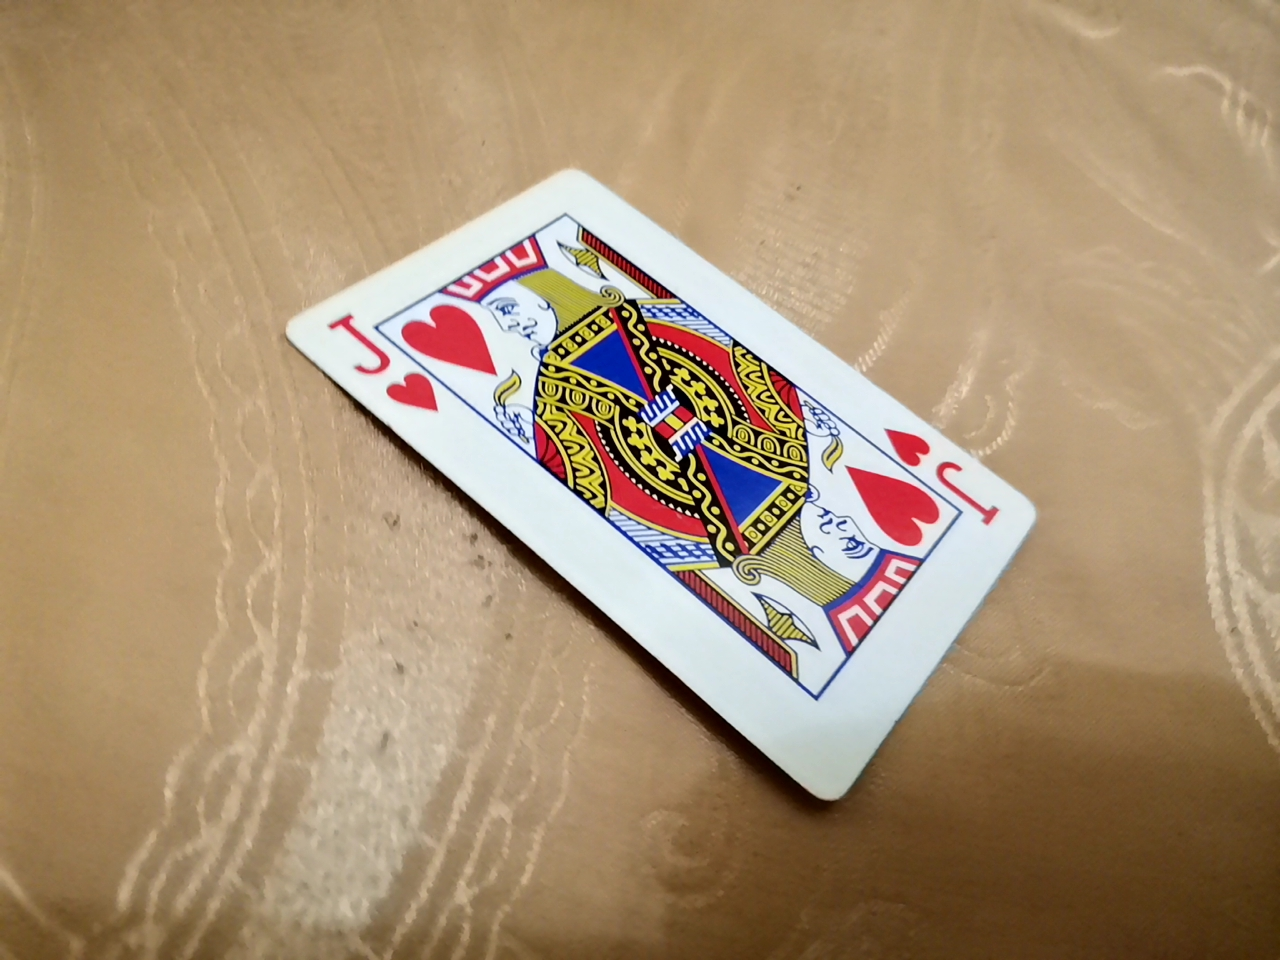hx j: (286, 183, 1076, 802)
